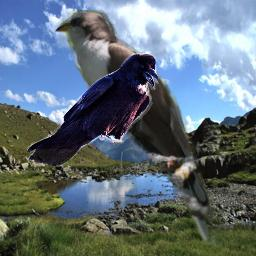Crow: (27, 53, 159, 167)
Cuckoo: (53, 10, 231, 245)
